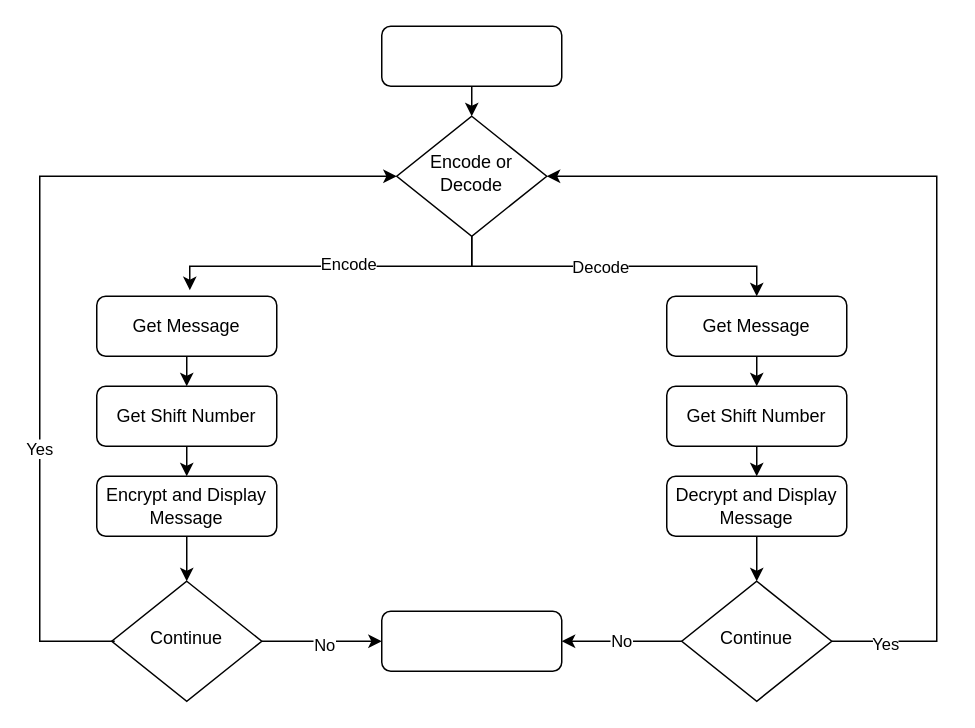
This 975x728 diagram has some shape labels left out. Each missing label, with the centre of its shape:
"Display Logo" goes at [471,55].
"Quit Program" goes at [471,640].
